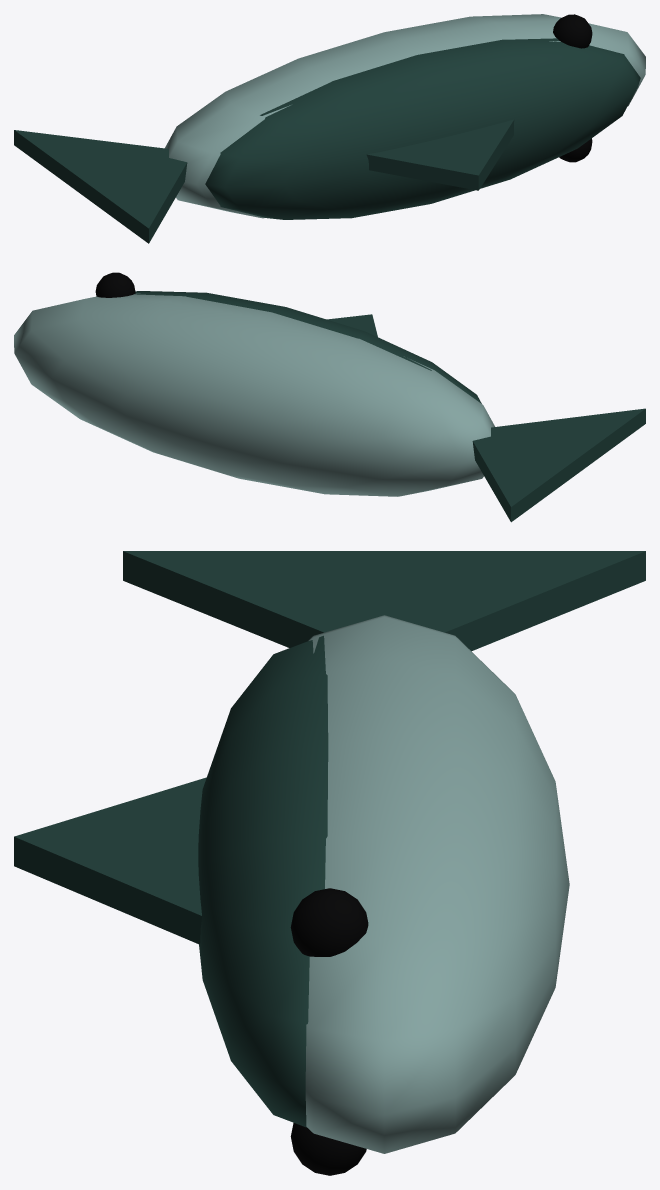
File: SM_FishCod.obj
3 renders of one model, top to bottom at view 1: azimuth 30°, elevation 25°; view 2: azimuth 150°, elevation 25°; view 3: azimuth 270°, elevation 25°, orthographic. The views are drawn at different scales.
Parts seen in each view (by area): view 1: SM_FishCod; view 2: SM_FishCod; view 3: SM_FishCod.
Part boxes in pixels (x1,y1,x2,y2): SM_FishCod: (14,14,645,243); SM_FishCod: (14,272,645,522); SM_FishCod: (14,551,645,1175).
Size of the model in its own units: 58 by 15 by 29.
